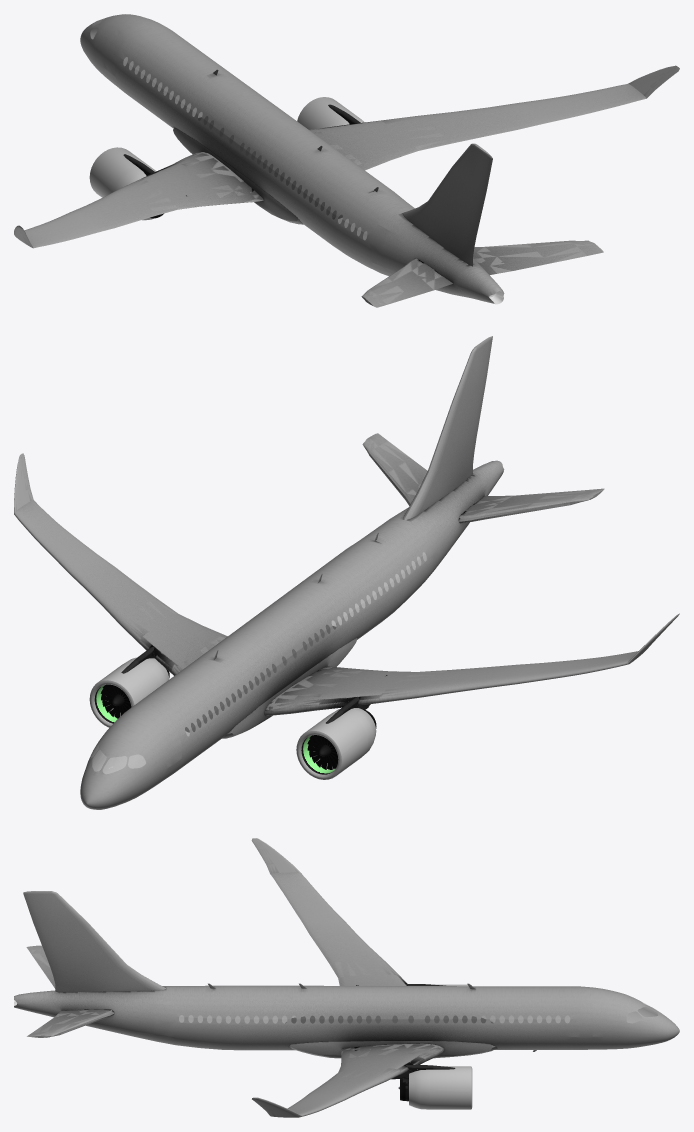
3 renders of one model, top to bottom at view 1: azimuth 30°, elevation 25°; view 2: azimuth 150°, elevation 25°; view 3: azimuth 270°, elevation 25°, orthographic. The views are drawn at different scales.
Visible parts, largest first — view 1: body, wings, vstab, hstab, wingfairing, nacelleL, body_002, nacelleR, doorRL, doorFL; view 2: body, wings, vstab, hstab, nacelleL, nacelleR, wingfairing, body_002, windows; view 3: body, wings, vstab, nacelleR, wingfairing, hstab, body_002, doorFR, doorRR.
Part boxes in pixels (box(x1,y1,x2,y2)): body: box(80, 14, 503, 303); wings: box(14, 65, 679, 248); vstab: box(403, 143, 492, 266); hstab: box(361, 240, 603, 307); wingfairing: box(173, 116, 342, 224); nacelleL: box(89, 147, 156, 220); body_002: box(123, 57, 367, 240); nacelleR: box(297, 97, 364, 129); doorRL: box(372, 225, 390, 269); doorFL: box(105, 31, 126, 77); body: box(80, 460, 504, 809); wings: box(14, 453, 679, 715); vstab: box(403, 336, 492, 519); hstab: box(362, 433, 604, 523); nacelleL: box(296, 708, 376, 779); nacelleR: box(89, 657, 169, 727); wingfairing: box(185, 625, 357, 738); body_002: box(185, 552, 426, 736); windows: box(90, 745, 145, 774); body: box(14, 985, 679, 1050); wings: box(251, 838, 444, 1117); vstab: box(23, 891, 166, 992); nacelleR: box(409, 1066, 472, 1109); wingfairing: box(285, 1015, 497, 1058); hstab: box(26, 945, 114, 1037); body_002: box(179, 1015, 570, 1023); doorFR: box(576, 1003, 593, 1038); doorRR: box(153, 1004, 169, 1036).
Bounding box in the file's own units: 35.17 × 38.17 × 11.09.
Materials: 6 (3 with a texture image).
